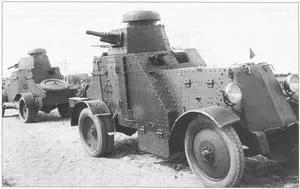MIL_IFV: (69, 9, 299, 181)
